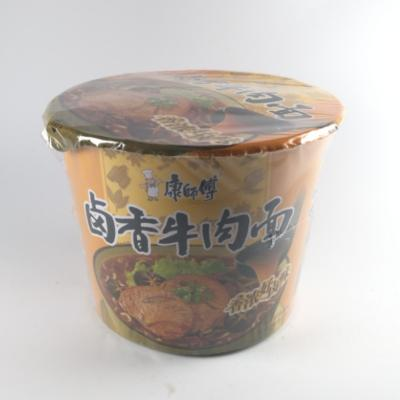luxiang: (41, 69, 345, 359)
